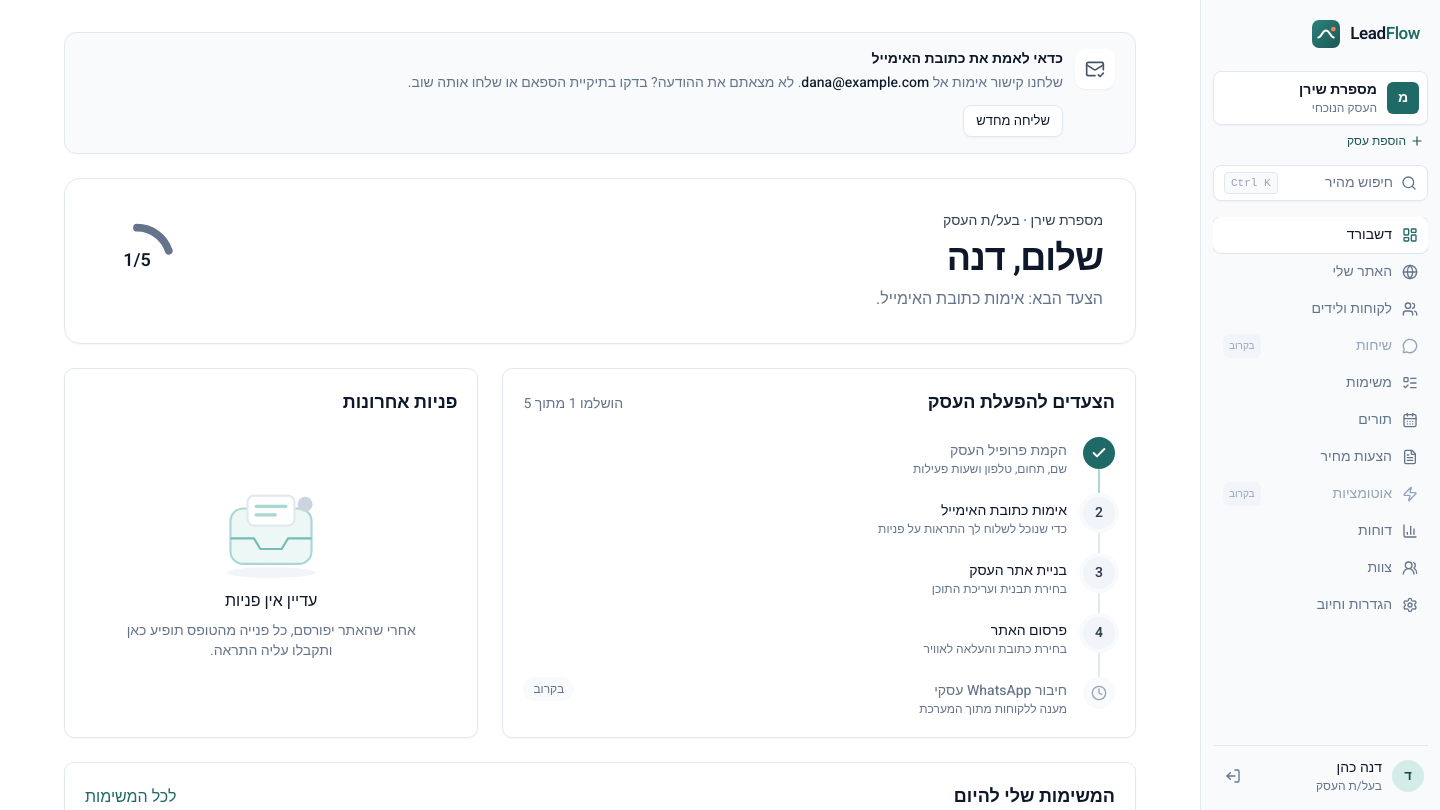
Test: quick search (Ctrl+K) › "ליד חדש" opens the new-lead dialog on the leads page
The width and height of the screenshot is (1440, 810).
Click the button "חיפוש מהיר Ctrl K" at (1320,183), box [1213, 165, 1428, 201]
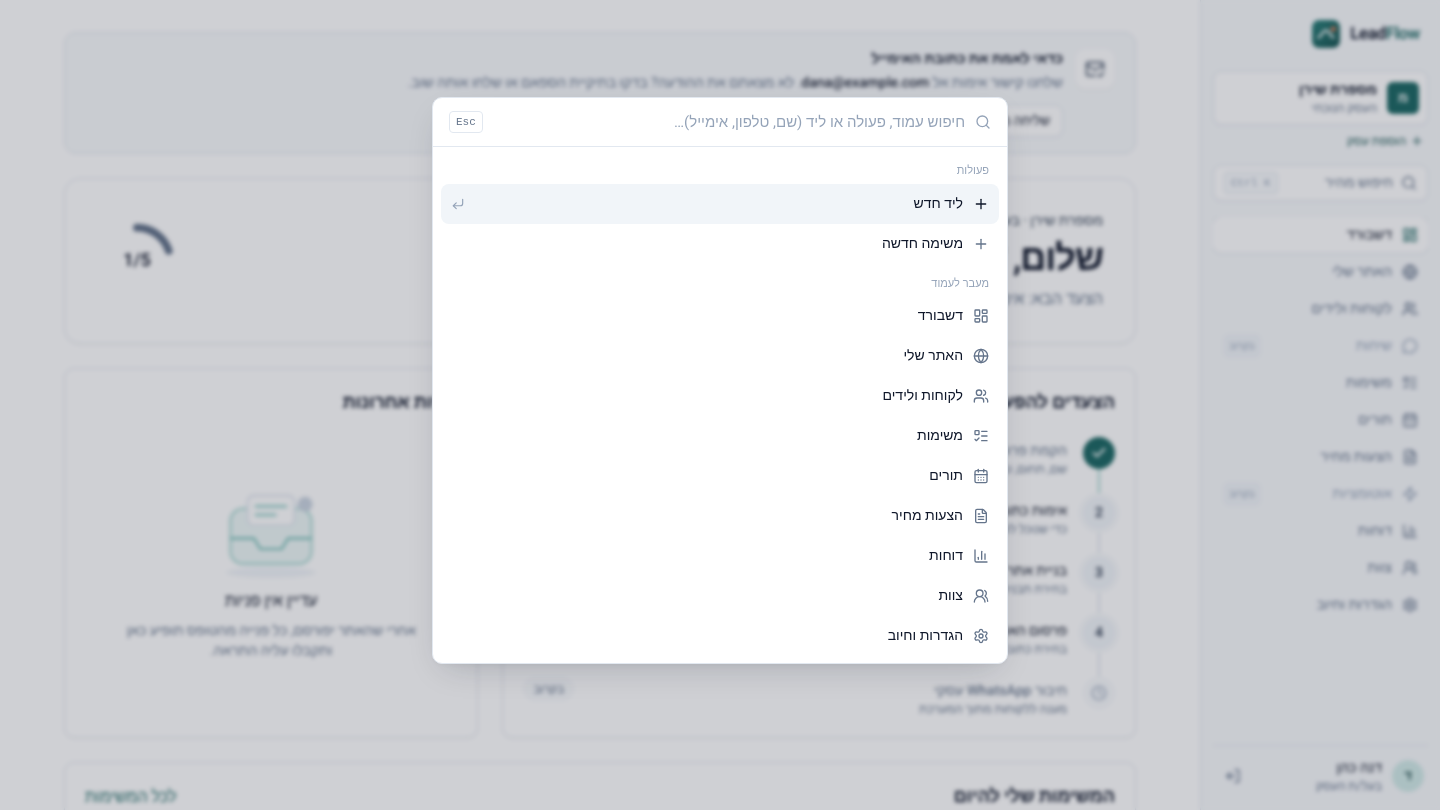
Type "ליד חדש" into the dropdown at (729,122), box [493, 98, 965, 146]
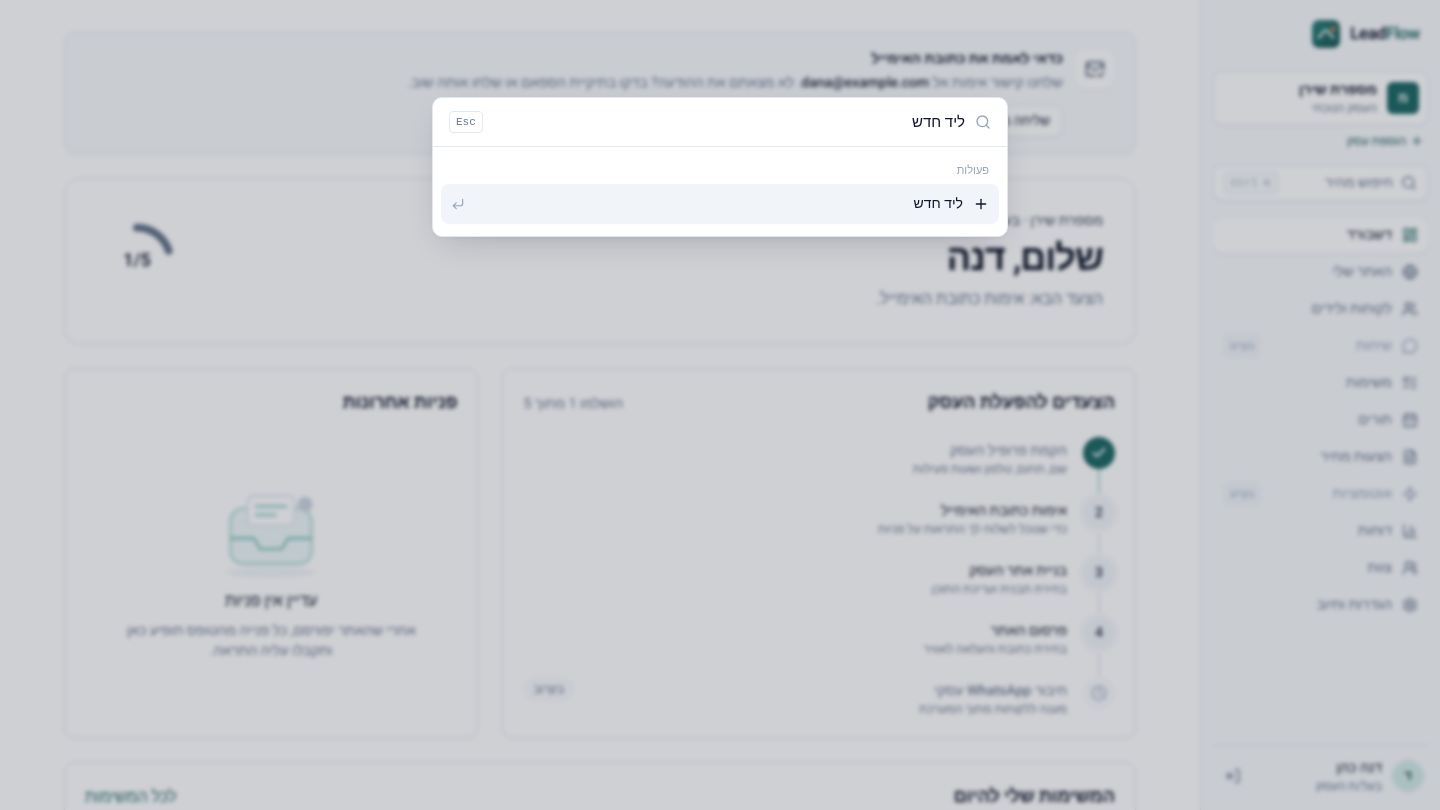
Press Enter
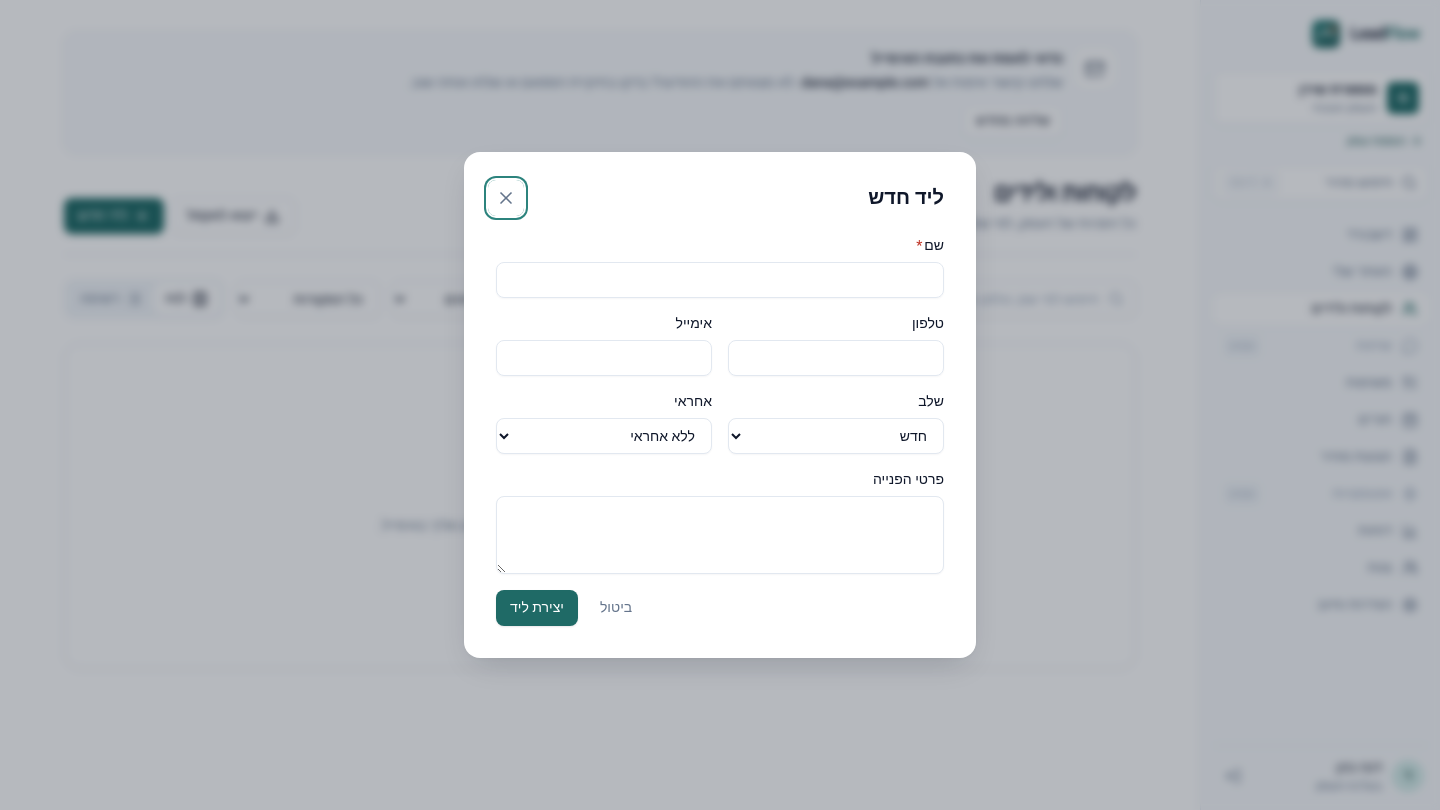
Expected: the dialog "ליד חדש" is shown, [464, 152, 976, 658]
